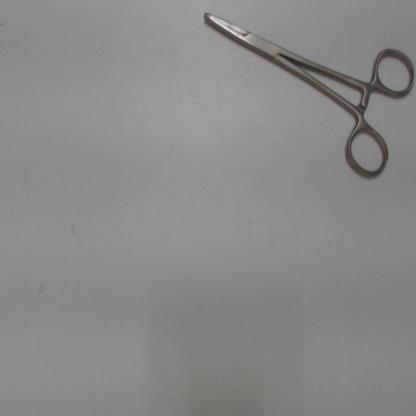Mayo Needle Holder: (197, 6, 416, 189)
